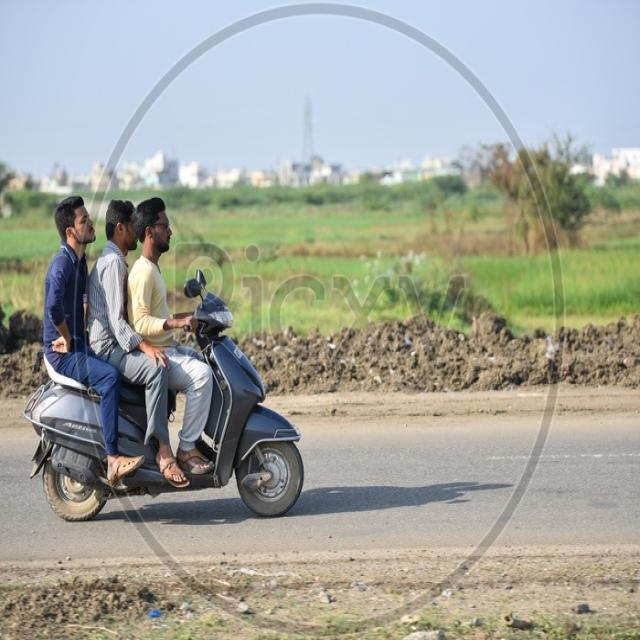triple_rider: (26, 197, 304, 519)
